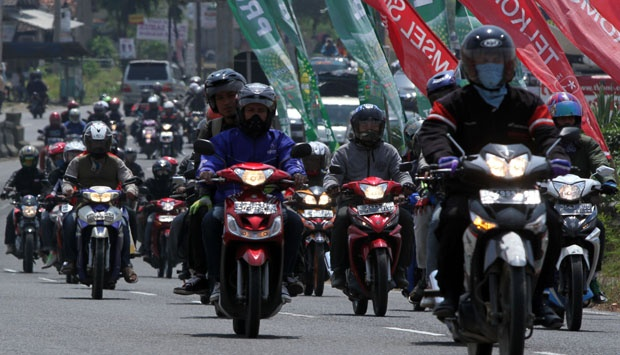plate: (479, 187, 538, 208), (234, 202, 274, 216)
